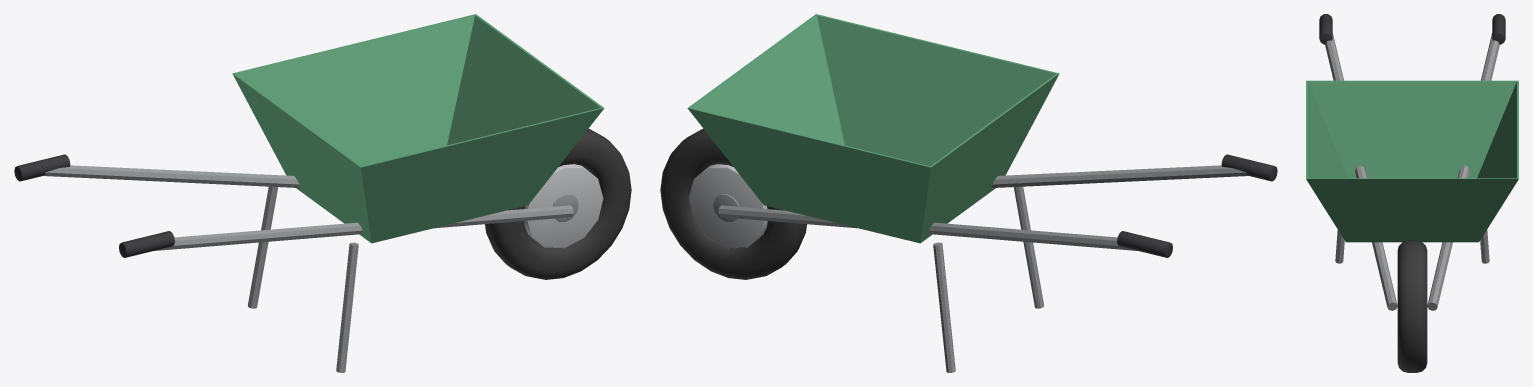
File: EQP-MAO-001.glb
3 renders of one model, left to right at view 1: azimuth 30°, elevation 25°; view 2: azimuth 150°, elevation 25°; view 3: azimuth 270°, elevation 25°, orthographic. The views are drawn at different scales.
Visible parts, largest first — view 1: EQP-MAO-001_cacamba, EQP-MAO-001_roda_pneu, EQP-MAO-001_roda_aro, EQP-MAO-001_braco-1, EQP-MAO-001_braco1, EQP-MAO-001_pe-1, EQP-MAO-001_pe1, EQP-MAO-001_manopla-1, EQP-MAO-001_manopla1; view 2: EQP-MAO-001_cacamba, EQP-MAO-001_roda_pneu, EQP-MAO-001_roda_aro, EQP-MAO-001_braco1, EQP-MAO-001_braco-1, EQP-MAO-001_pe1, EQP-MAO-001_pe-1, EQP-MAO-001_manopla1, EQP-MAO-001_manopla-1; view 3: EQP-MAO-001_cacamba, EQP-MAO-001_roda_pneu, EQP-MAO-001_braco-1, EQP-MAO-001_braco1, EQP-MAO-001_manopla1, EQP-MAO-001_manopla-1, EQP-MAO-001_pe1, EQP-MAO-001_pe-1.
Boxes of the visible parts, box(x1,y1,x2,y2) form: EQP-MAO-001_cacamba: box(232, 14, 604, 243); EQP-MAO-001_roda_pneu: box(485, 128, 631, 279); EQP-MAO-001_roda_aro: box(524, 164, 603, 248); EQP-MAO-001_braco-1: box(154, 205, 573, 250); EQP-MAO-001_braco1: box(42, 165, 300, 187); EQP-MAO-001_pe-1: box(336, 242, 358, 372); EQP-MAO-001_pe1: box(248, 186, 278, 308); EQP-MAO-001_manopla-1: box(119, 231, 174, 257); EQP-MAO-001_manopla1: box(14, 154, 70, 181); EQP-MAO-001_cacamba: box(687, 14, 1059, 243); EQP-MAO-001_roda_pneu: box(660, 128, 806, 279); EQP-MAO-001_roda_aro: box(688, 164, 767, 248); EQP-MAO-001_braco1: box(718, 205, 1137, 250); EQP-MAO-001_braco-1: box(991, 165, 1249, 187); EQP-MAO-001_pe1: box(933, 242, 955, 372); EQP-MAO-001_pe-1: box(1013, 186, 1043, 308); EQP-MAO-001_manopla1: box(1117, 231, 1172, 257); EQP-MAO-001_manopla-1: box(1221, 154, 1277, 181); EQP-MAO-001_cacamba: box(1306, 80, 1518, 242); EQP-MAO-001_roda_pneu: box(1397, 240, 1427, 372); EQP-MAO-001_braco-1: box(1325, 33, 1397, 310); EQP-MAO-001_braco1: box(1427, 33, 1499, 310); EQP-MAO-001_manopla1: box(1492, 14, 1505, 44); EQP-MAO-001_manopla-1: box(1319, 14, 1332, 44); EQP-MAO-001_pe1: box(1480, 230, 1489, 263); EQP-MAO-001_pe-1: box(1335, 230, 1344, 263).
Size of the model in its own units: 1.6 by 0.6018 by 0.64.
